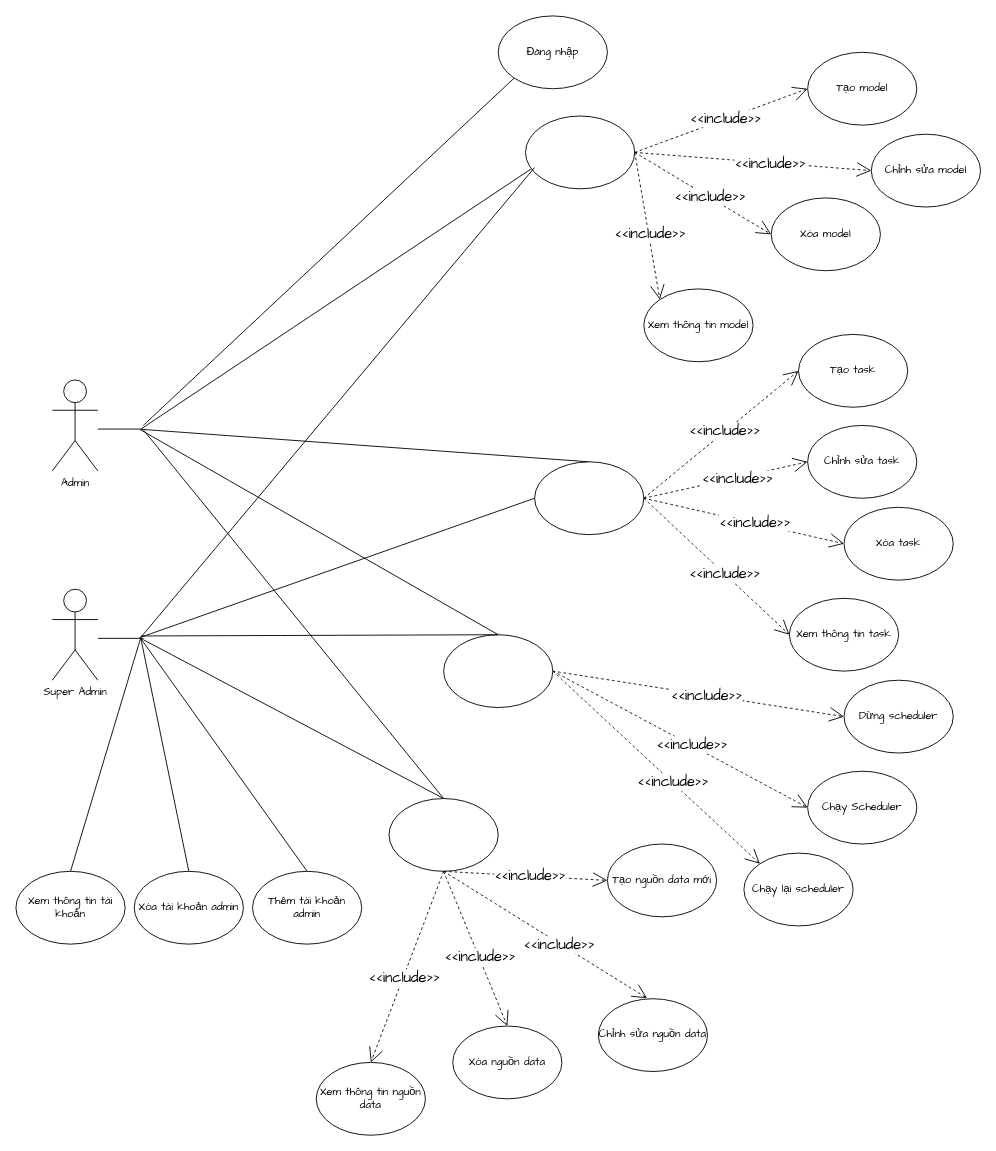
This 996x1151 diagram has some shape labels left out. Each missing label, with the centre of its shape:
Quản lý model: point (580, 152)
Quản lý nhà hàng data: point (443, 834)
Quản lý scheduler: point (498, 671)
Quản lý tasks: point (589, 498)
